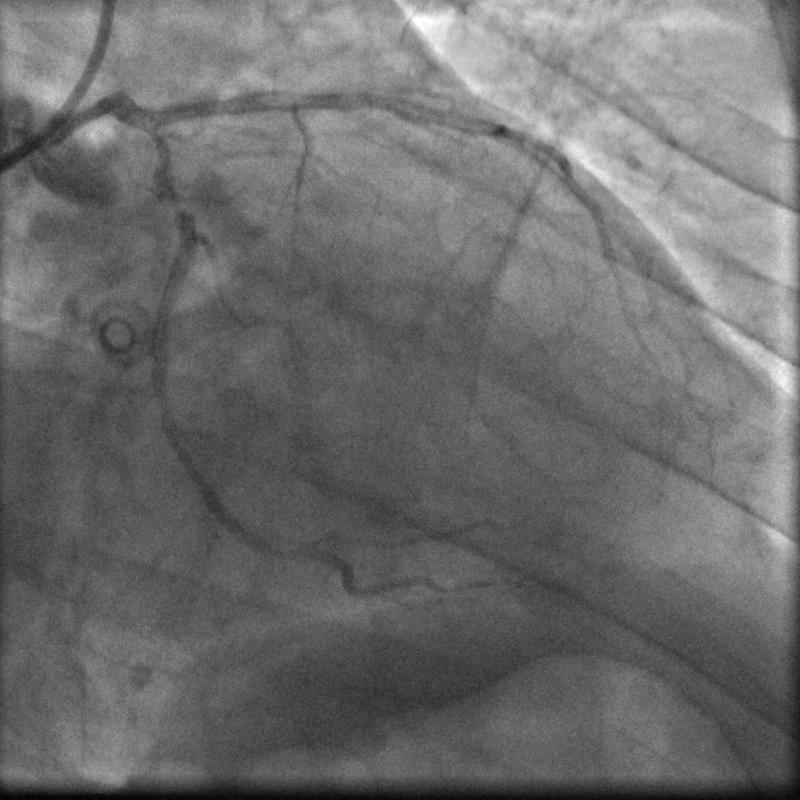Stenosis: (168, 192, 187, 214)
